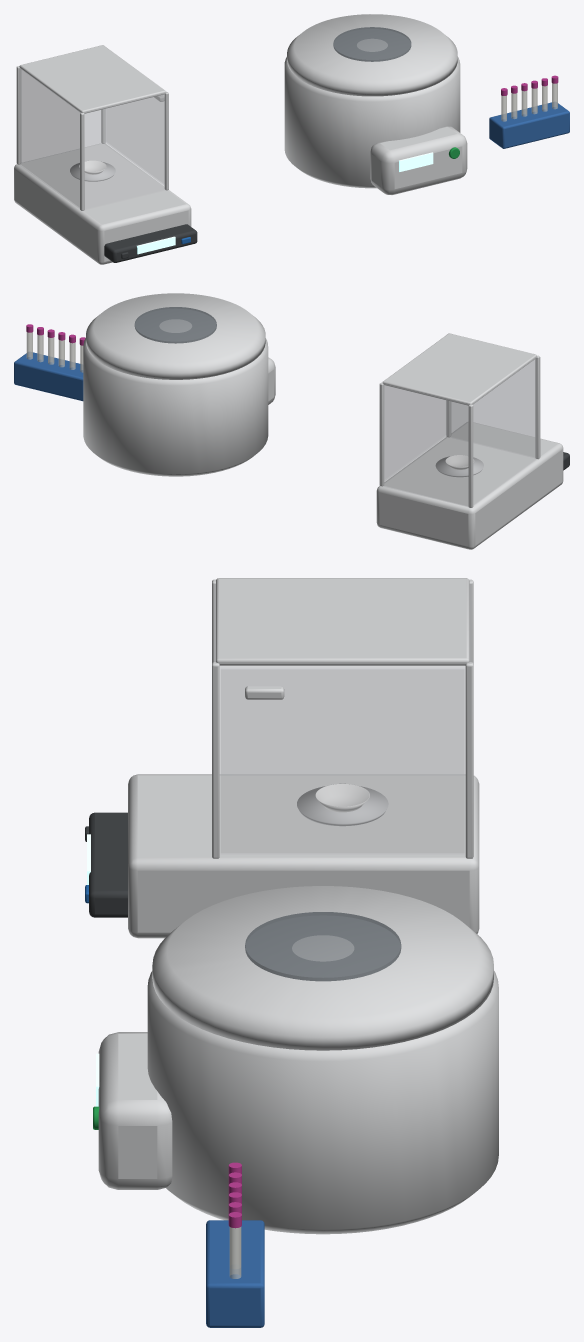
Rendered from analytical-bench.glb.
3 views of the same model, one above another, from view 1: azimuth 30°, elevation 25°; view 2: azimuth 150°, elevation 25°; view 3: azimuth 270°, elevation 25° (orthographic). The views are drawn at different scales.
Parts seen in each view (by area): view 1: centrifuge_body, balance_body, lid_shell, shield_glass.001, shield_glass, shield_top, centrifuge_console, shield_glass.002, door_glass, tube_rack, lid_window, balance_front_panel (+6 smaller); view 2: centrifuge_body, balance_body, lid_shell, shield_glass.002, shield_glass, shield_top, shield_glass.001, door_glass, lid_window, tube_rack, shield_post.001, shield_post.003 (+3 smaller); view 3: centrifuge_body, door_glass, lid_shell, balance_body, shield_glass, shield_top, centrifuge_console, lid_window, tube_rack, balance_front_panel, weighing_pan, shield_post.003 (+2 smaller).
Boxes of the visible parts, x1,y1,x2,y2 form: centrifuge_body: [284, 56, 460, 188]; balance_body: [14, 143, 191, 264]; lid_shell: [287, 14, 457, 96]; shield_glass.001: [84, 93, 165, 209]; shield_glass: [19, 67, 80, 208]; shield_top: [19, 45, 166, 113]; centrifuge_console: [370, 126, 467, 194]; shield_glass.002: [21, 70, 101, 162]; door_glass: [105, 95, 164, 184]; tube_rack: [489, 102, 569, 148]; lid_window: [333, 27, 411, 61]; balance_front_panel: [104, 224, 197, 262]; centrifuge_body: [83, 338, 268, 476]; balance_body: [376, 422, 563, 549]; lid_shell: [86, 293, 265, 379]; shield_glass.002: [383, 384, 468, 506]; shield_glass: [472, 356, 537, 505]; shield_top: [382, 333, 536, 405]; shield_glass.001: [450, 360, 534, 457]; door_glass: [384, 386, 446, 480]; lid_window: [134, 307, 216, 343]; tube_rack: [14, 352, 83, 401]; shield_post.001: [468, 404, 473, 507]; shield_post.003: [379, 382, 384, 486]; centrifuge_body: [147, 971, 498, 1234]; door_glass: [221, 668, 464, 854]; lid_shell: [152, 886, 493, 1050]; balance_body: [128, 774, 479, 938]; shield_glass: [220, 666, 465, 775]; shield_top: [216, 578, 469, 665]; centrifuge_console: [98, 1032, 172, 1189]; lid_window: [245, 912, 401, 981]; tube_rack: [206, 1220, 264, 1327]; balance_front_panel: [89, 812, 127, 917]; weighing_pan: [297, 786, 388, 826]; shield_post.003: [465, 662, 473, 858].
Size of the model in its own units: 1.16 by 0.314 by 0.424.
